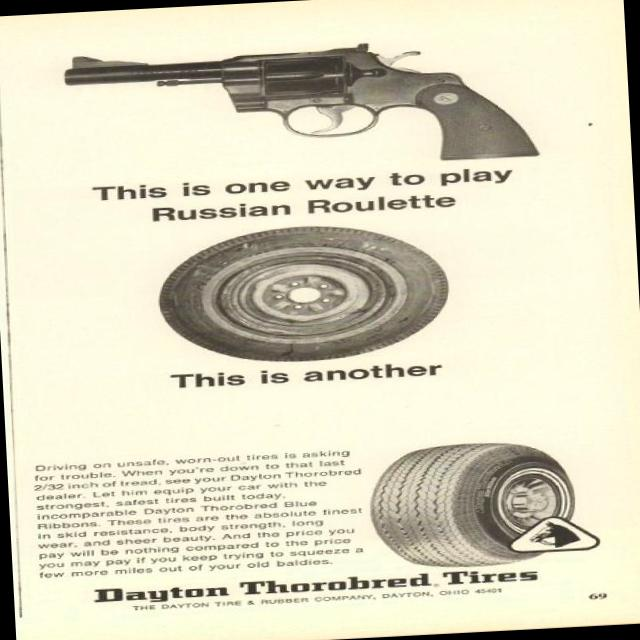Gun: (64, 44, 538, 160)
